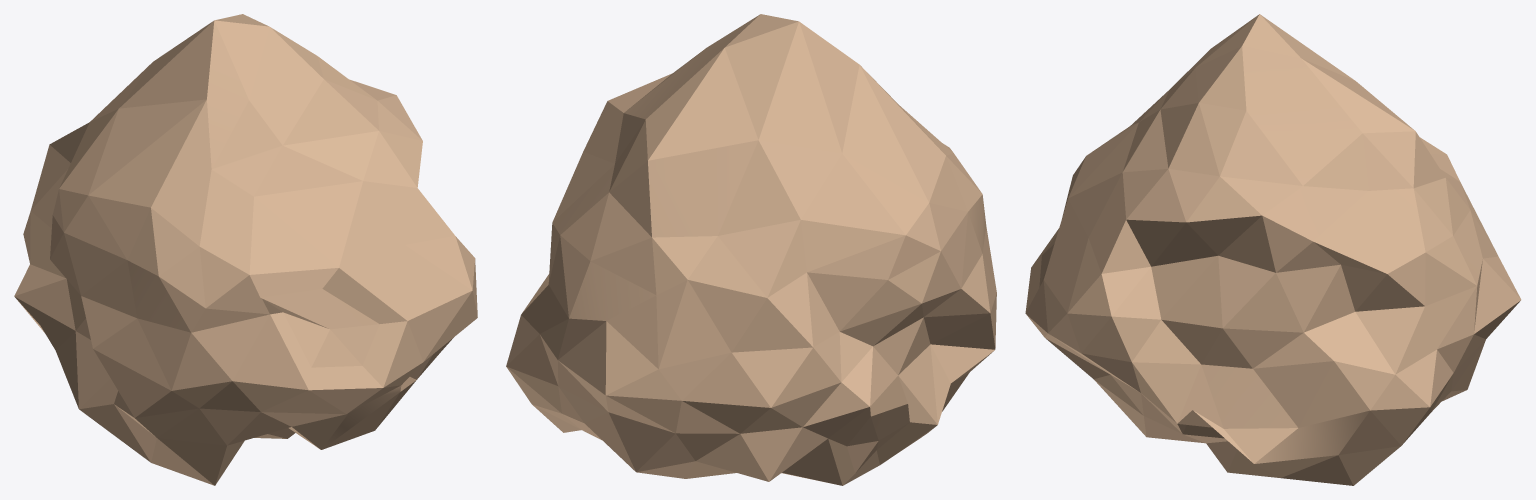
File: Deimos.fbx
3 renders of one model, left to right at view 1: azimuth 30°, elevation 25°; view 2: azimuth 150°, elevation 25°; view 3: azimuth 270°, elevation 25°, orthographic. The views are drawn at different scales.
Visible parts, largest first — view 1: Deimos; view 2: Deimos; view 3: Deimos.
Part boxes in pixels (x1,y1,x2,y2): Deimos: [14, 14, 477, 485]; Deimos: [506, 14, 996, 485]; Deimos: [1025, 14, 1521, 485].
Bounding box in the file's own units: 70.11 × 73.84 × 82.89.
